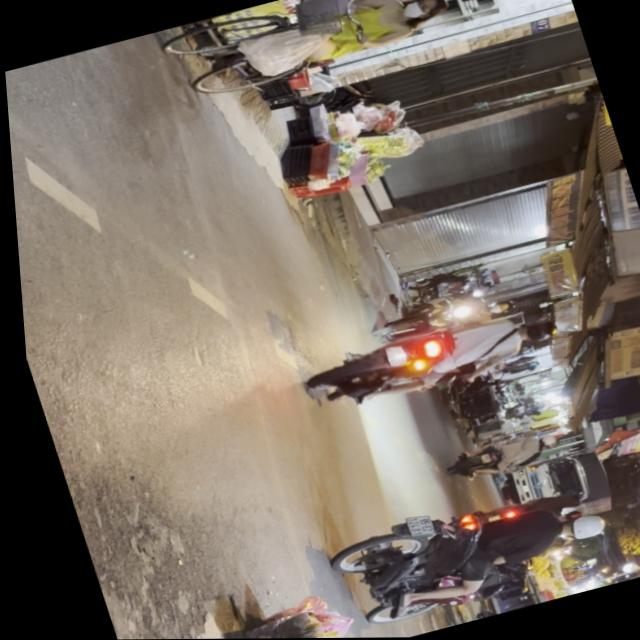helmet: (551, 508, 601, 542), (511, 313, 554, 344)
licenseplate: (309, 467, 618, 634), (291, 295, 566, 417)
nohelmet: (397, 512, 428, 540), (380, 342, 405, 366)
